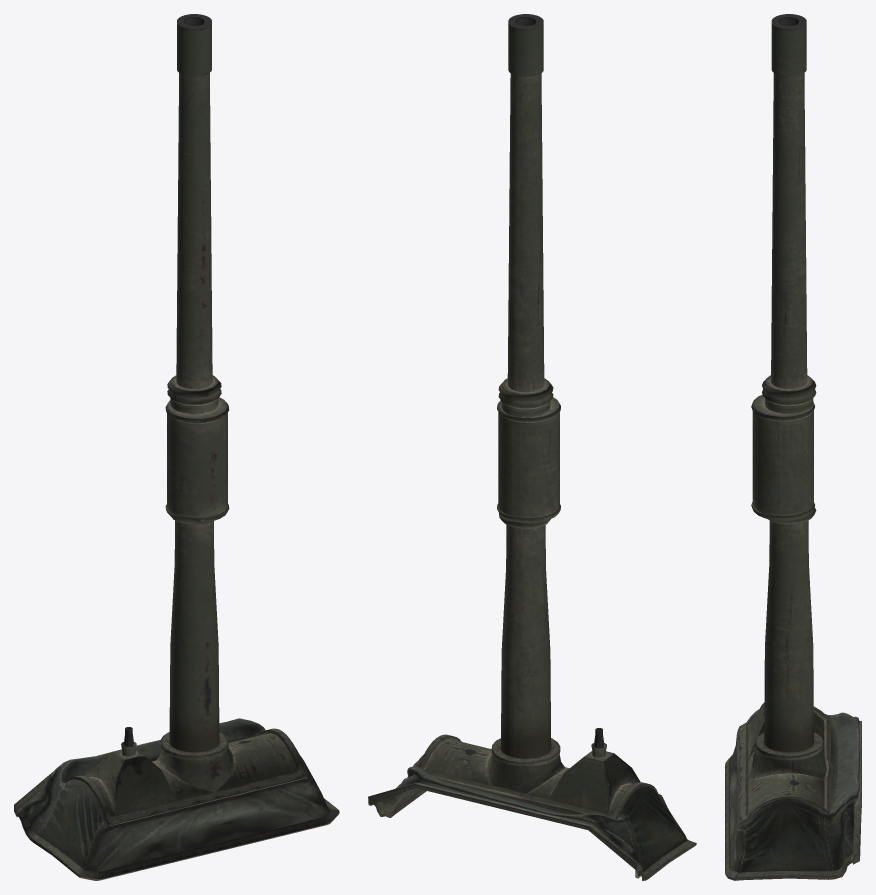
Rendered from Gun_01.glb.
3 renders of one model, left to right at view 1: azimuth 30°, elevation 25°; view 2: azimuth 150°, elevation 25°; view 3: azimuth 270°, elevation 25°, orthographic.
Visible parts, largest first — view 1: set_0_group_0; view 2: set_0_group_0; view 3: set_0_group_0.
Boxes of the visible parts, <box> form: set_0_group_0: <box>14,14,339,880</box>; set_0_group_0: <box>368,14,696,880</box>; set_0_group_0: <box>725,14,861,880</box>.
Size of the model in its own units: 1.59 by 4.56 by 0.7023.
Materials: 1 (1 with a texture image).
